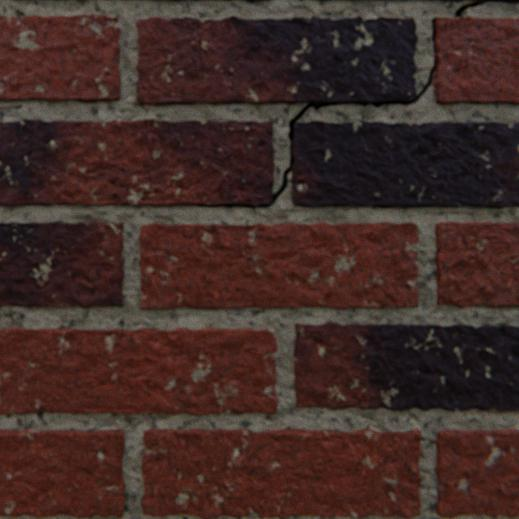brick: (142, 428, 420, 518), (136, 17, 416, 105), (0, 327, 277, 414), (140, 222, 417, 309), (0, 120, 274, 206), (290, 121, 518, 208), (293, 322, 518, 410), (0, 427, 125, 516), (0, 221, 124, 307), (0, 15, 120, 102), (432, 17, 518, 104), (434, 428, 518, 515), (434, 221, 518, 306), (238, 0, 265, 2), (150, 0, 186, 1), (214, 0, 236, 1), (439, 0, 460, 1)
crack: (288, 18, 441, 143), (257, 145, 293, 207), (453, 0, 518, 18), (198, 203, 253, 208)
